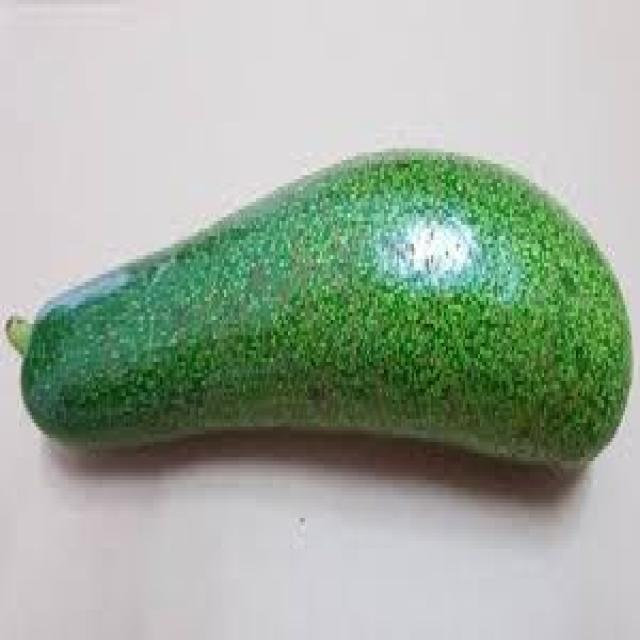Bo: (2, 107, 638, 484)
